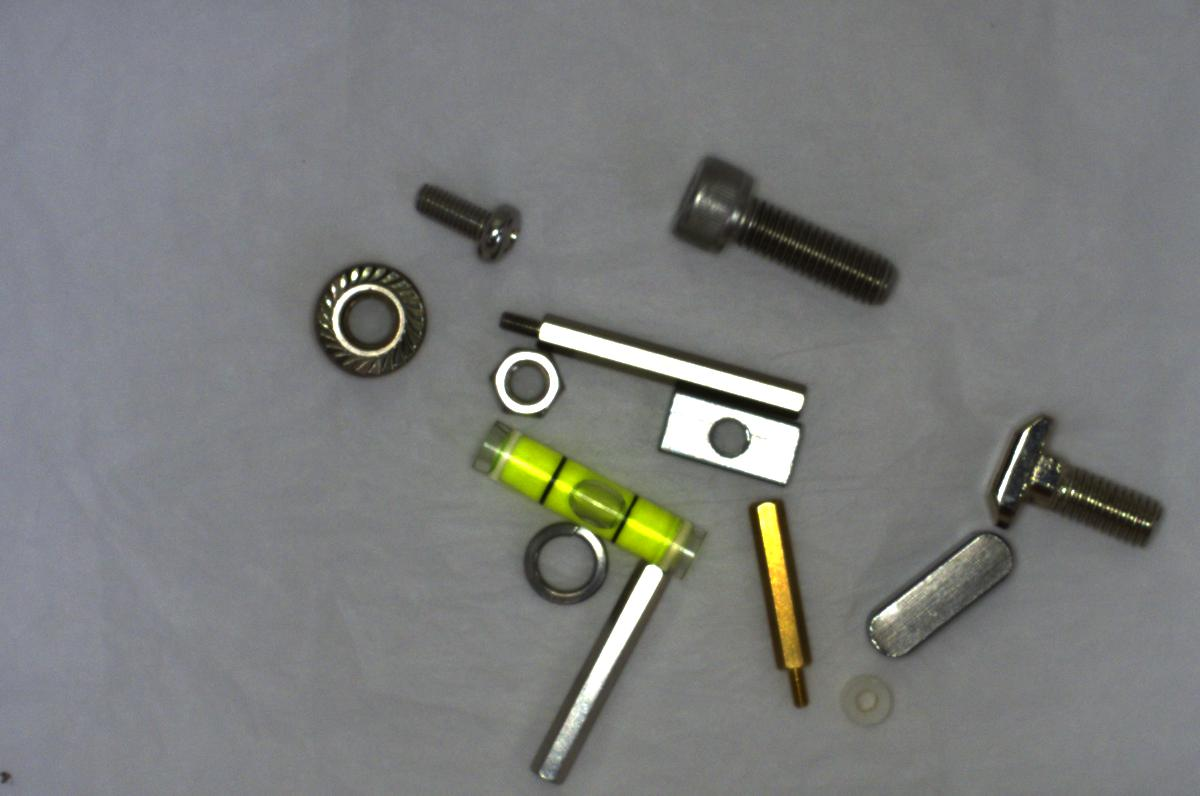Double hexagonal column: (516, 553, 683, 791)
Flange nut: (306, 258, 429, 387)
Hexagon nut: (476, 341, 574, 419)
Hexagon pillar: (729, 498, 834, 712)
Hexagon screw: (652, 144, 903, 314)
Hexagonal steel column: (491, 301, 819, 422)
Horizontal bubble: (460, 421, 715, 580)
Keybar: (855, 515, 1020, 662)
Plastic cushion pillar: (828, 665, 908, 733)
Rectangular nut: (646, 390, 810, 483)
Round head screw: (401, 178, 529, 263)
Spring washer: (520, 512, 617, 605)
T-shaped screw: (978, 405, 1166, 555)
